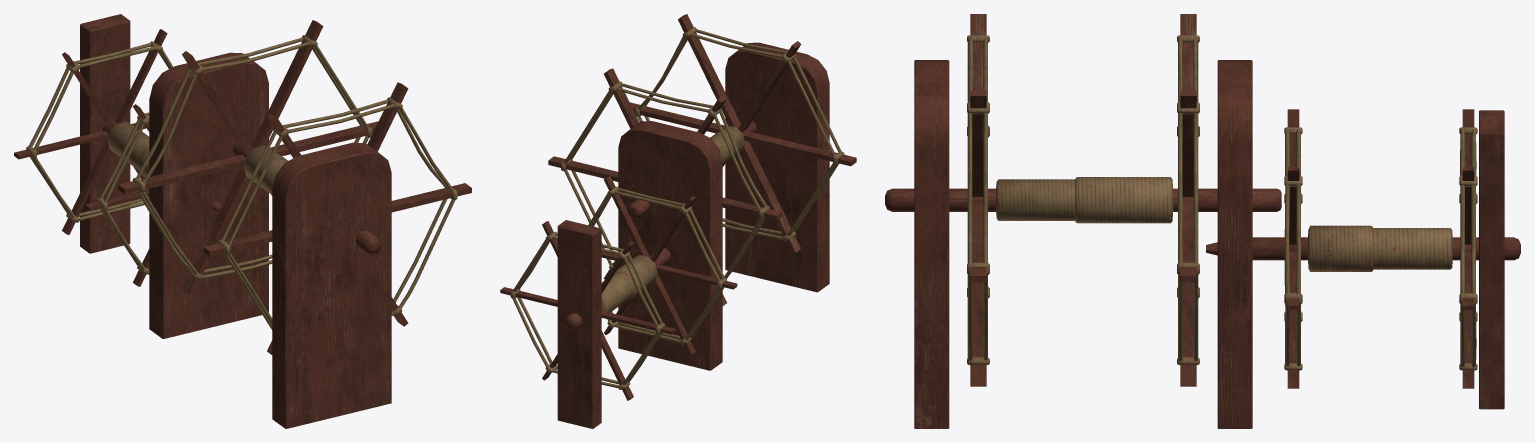
File: SM_Horong.fbx
The picture shows the model from 3 angles, left to right: view 1: azimuth 30°, elevation 25°; view 2: azimuth 150°, elevation 25°; view 3: azimuth 270°, elevation 25°; orthographic projection. The views are drawn at different scales.
Parts seen in each view (by area): view 1: SM_Horong; view 2: SM_Horong; view 3: SM_Horong.
Boxes of the visible parts, x1,y1,x2,y2 form: SM_Horong: (14,14,471,428); SM_Horong: (500,14,856,428); SM_Horong: (885,14,1520,428).
Size of the model in its own units: 160 by 170 by 273.
